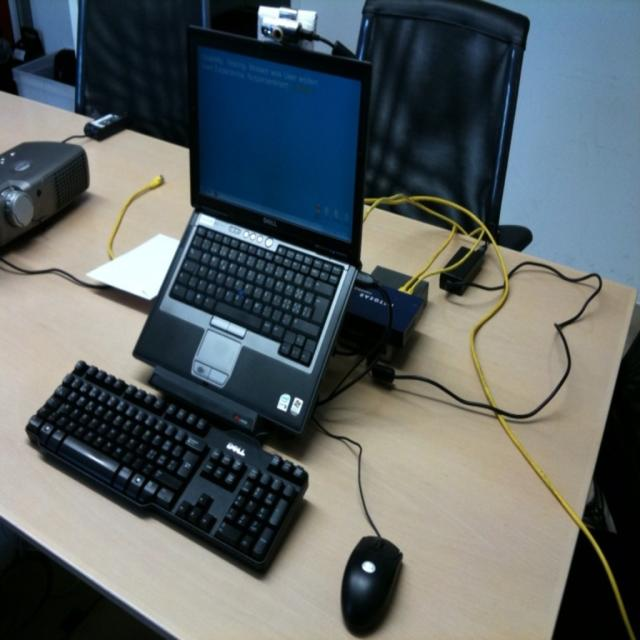Computer-mouse: (340, 534, 404, 639)
